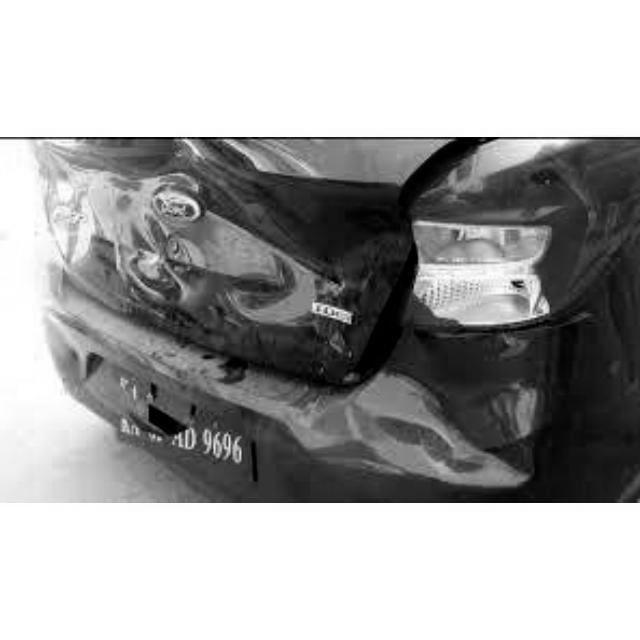Taillight-Damage: (397, 138, 638, 329)
rear-bumper-dent: (182, 333, 587, 501)
